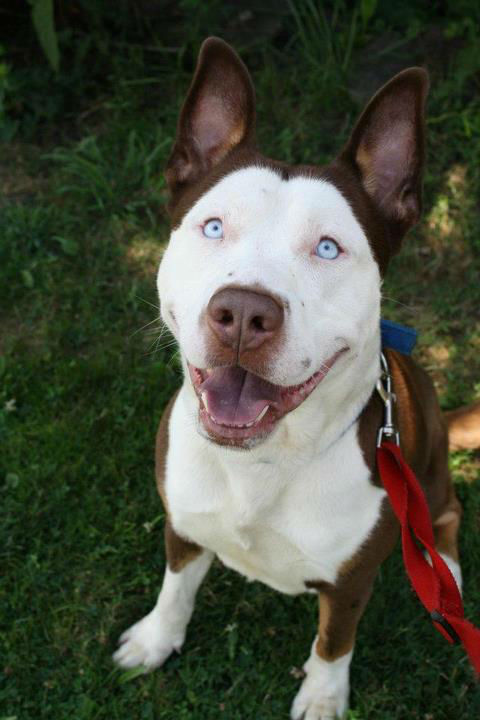dog: (131, 35, 452, 714)
